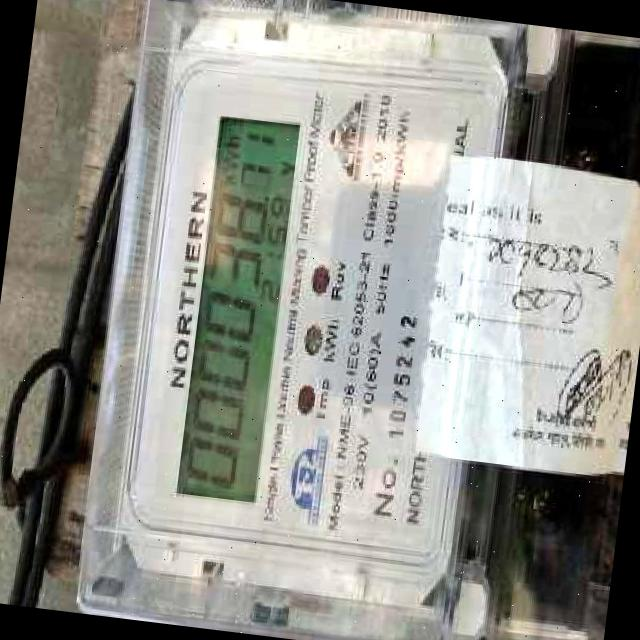LCD: (166, 102, 309, 510)
